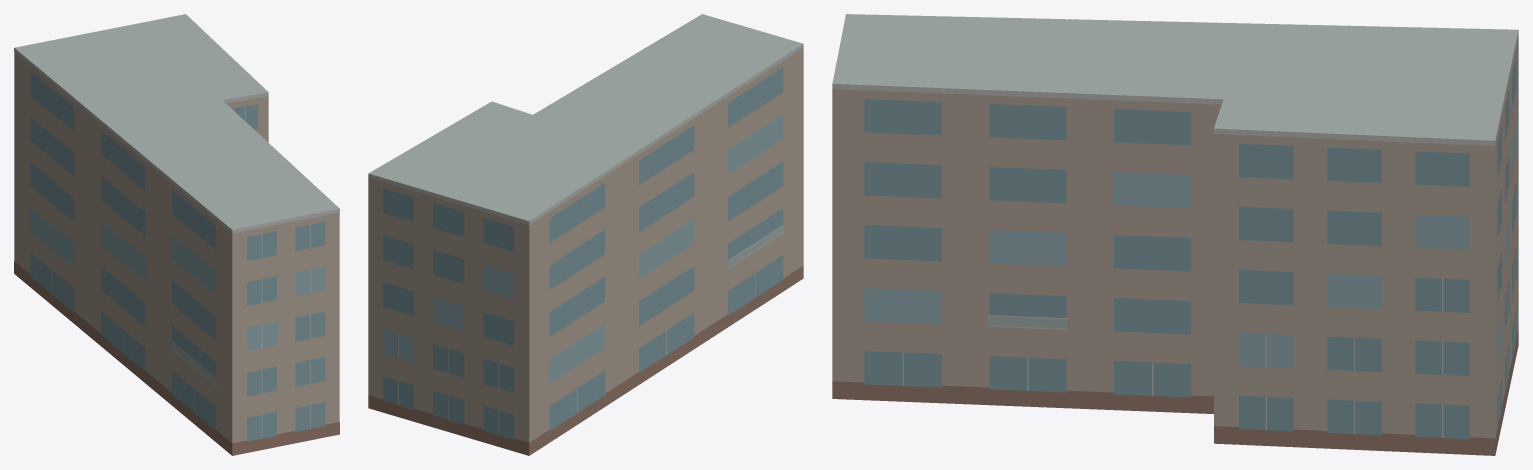
Rendered from survey-upis-32520514.glb.
The picture shows the model from 3 angles, left to right: view 1: azimuth 30°, elevation 25°; view 2: azimuth 150°, elevation 25°; view 3: azimuth 270°, elevation 25°; orthographic projection. The views are drawn at different scales.
Visible parts, largest first — view 1: survey-upis-32520514.tmp; view 2: survey-upis-32520514.tmp; view 3: survey-upis-32520514.tmp.
Part boxes in pixels (x1,y1,x2,y2): survey-upis-32520514.tmp: [14, 14, 339, 455]; survey-upis-32520514.tmp: [368, 14, 803, 455]; survey-upis-32520514.tmp: [832, 14, 1518, 455].
Bounding box in the file's own units: 12.44 × 14.4 × 28.44.
